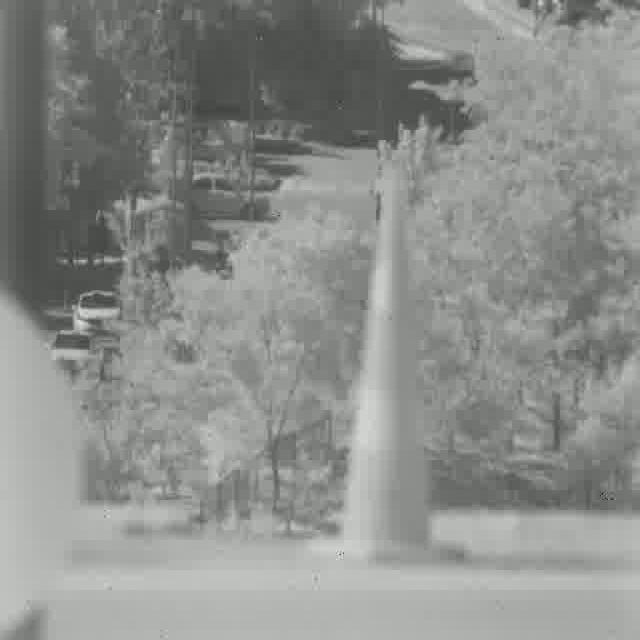Car: (71, 289, 124, 339), (41, 329, 88, 375)
